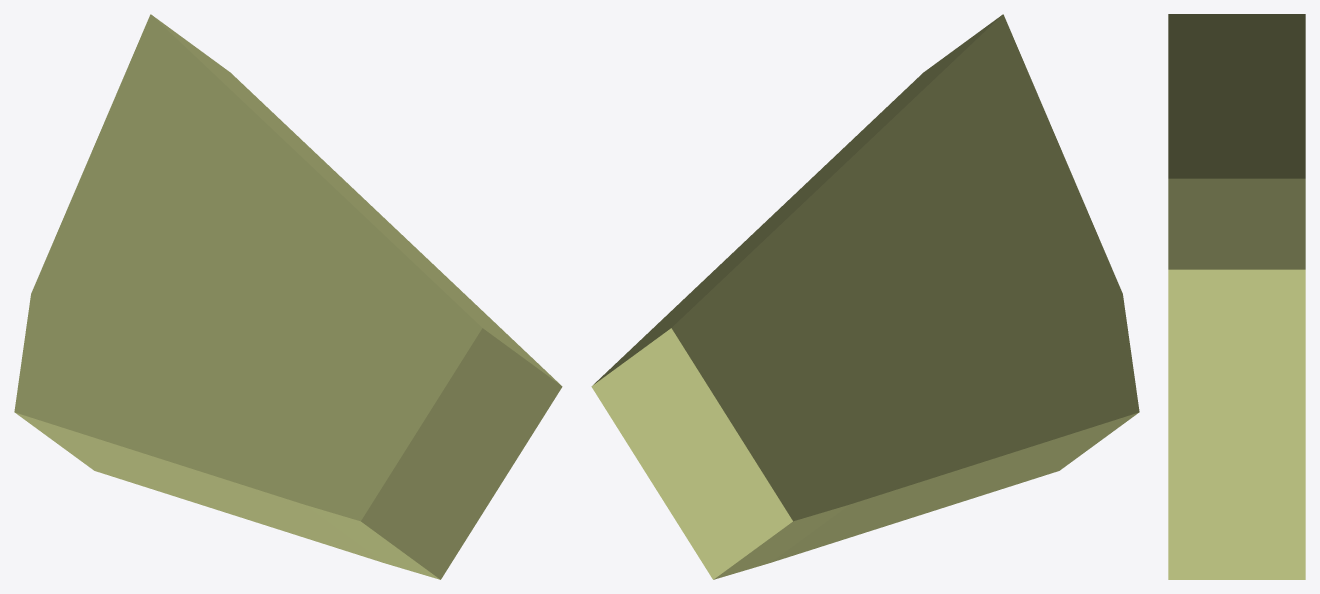
The picture shows the model from 3 angles, left to right: view 1: azimuth 30°, elevation 25°; view 2: azimuth 150°, elevation 25°; view 3: azimuth 270°, elevation 25°; orthographic projection. The views are drawn at different scales.
Parts seen in each view (by area): view 1: 0_1_3_2_2_1_2_3; view 2: 0_1_3_2_2_1_2_3; view 3: 0_1_3_2_2_1_2_3.
Boxes of the visible parts, x1,y1,x2,y2 form: 0_1_3_2_2_1_2_3: (14,14,562,579); 0_1_3_2_2_1_2_3: (591,14,1139,579); 0_1_3_2_2_1_2_3: (1168,14,1305,579).
Bounding box in the file's own units: 20.26 × 23.1 × 6.
